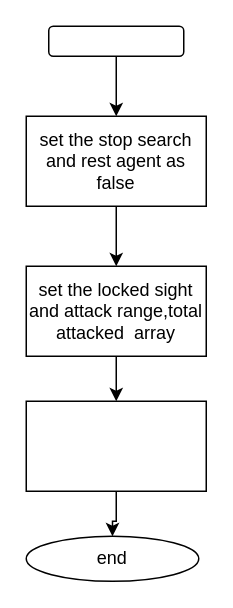
This 233x608 diagram has some shape labels left out. The centre of each missing label's shape, as x and y in pixels:
"return property object" goes at (x=115, y=445).
"start" goes at (x=115, y=40).
